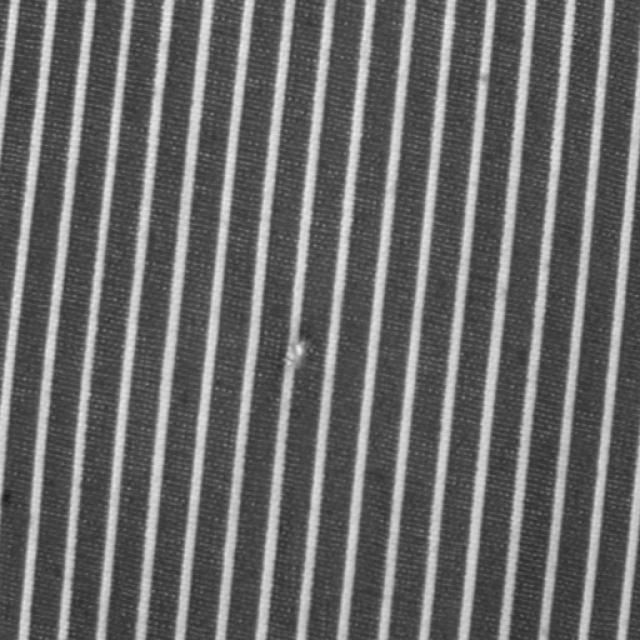Hole-Defect: (284, 335, 310, 375)
